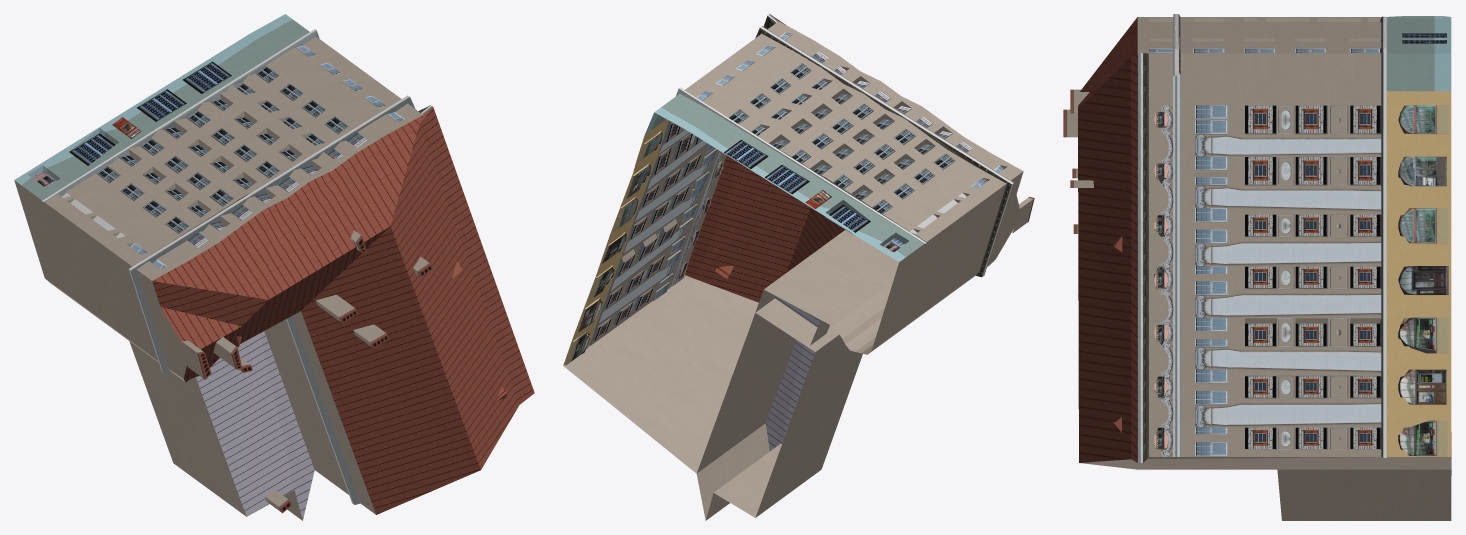
The model's file is Vabaduse_valjak_2b-origo.obj.
3 renders of one model, left to right at view 1: azimuth 30°, elevation 25°; view 2: azimuth 150°, elevation 25°; view 3: azimuth 270°, elevation 25°, orthographic. The views are drawn at different scales.
Visible parts, largest first — view 1: Vabaduse_valjak_2b; view 2: Vabaduse_valjak_2b; view 3: Vabaduse_valjak_2b.
Part boxes in pixels (<box>): Vabaduse_valjak_2b: <box>14,14,534,520</box>; Vabaduse_valjak_2b: <box>563,14,1034,520</box>; Vabaduse_valjak_2b: <box>1063,14,1451,520</box>.
Bounding box in the file's own units: 36.56 × 40 × 27.85.
